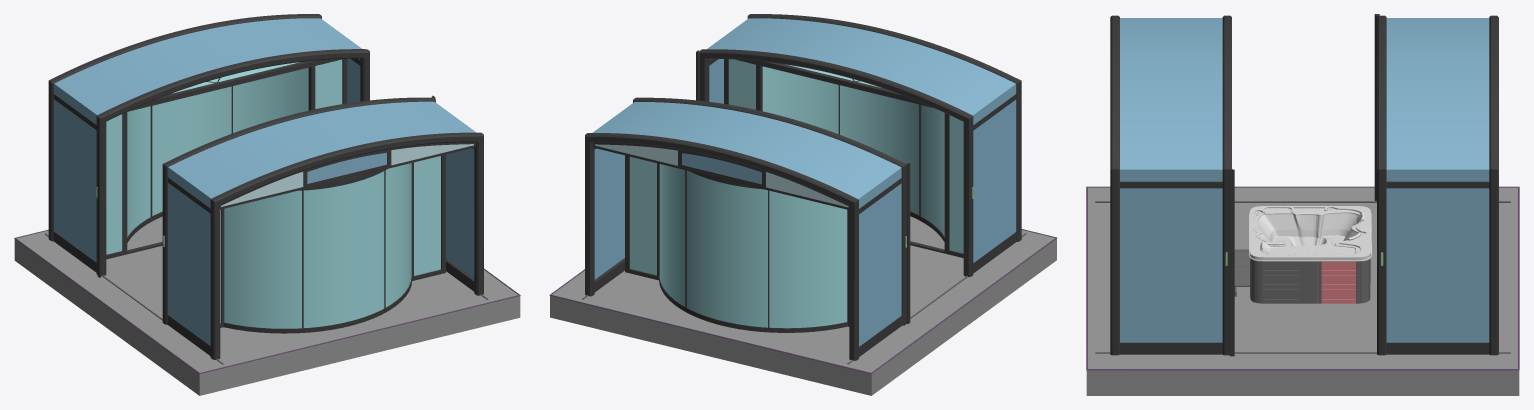
Rendered from Helios.glb.
The picture shows the model from 3 angles, left to right: view 1: azimuth 30°, elevation 25°; view 2: azimuth 150°, elevation 25°; view 3: azimuth 270°, elevation 25°; orthographic projection. The views are drawn at different scales.
Parts seen in each view (by area): view 1: Box093, Arc018, Line064, Line047, Arc015, Line066, Line048, Box082, Line049, Line065, Box077, Box076 (+18 smaller); view 2: Box093, Arc015, Line047, Line064, Arc018, Line049, Line065, Box078, Line048, Line066, Box081, Box080 (+16 smaller); view 3: Box093, Line047, Line064, sub011, Line066, Line049, Line048, sub013, Line065, Shape003, sub012, Box090 (+6 smaller).
Part boxes in pixels (x1,y1,x2,y2): Box093: (14, 216, 520, 395); Arc018: (224, 163, 411, 328); Line064: (168, 101, 476, 345); Line047: (54, 18, 361, 261); Arc015: (127, 67, 308, 236); Line066: (210, 132, 483, 359); Line048: (96, 49, 369, 276); Box082: (414, 156, 440, 275); Line049: (48, 14, 321, 241); Line065: (162, 97, 435, 324); Box077: (106, 114, 122, 254); Box076: (127, 59, 341, 111); Box093: (550, 216, 1056, 395); Arc015: (659, 164, 847, 328); Line047: (592, 102, 901, 346); Line064: (707, 18, 1016, 262); Arc018: (762, 66, 944, 235); Line049: (585, 133, 858, 360); Line065: (699, 49, 973, 276); Box078: (630, 156, 656, 275); Line048: (633, 97, 907, 325); Line066: (747, 14, 1021, 241); Box081: (949, 115, 963, 253); Box080: (735, 59, 932, 107); Box093: (1086, 187, 1519, 395); Line047: (1386, 18, 1489, 342); Line064: (1120, 18, 1222, 342); sub011: (1249, 206, 1371, 261); Line066: (1110, 15, 1119, 355); Line049: (1489, 15, 1498, 355); Line048: (1377, 15, 1386, 355); sub013: (1250, 258, 1370, 303); Line065: (1222, 15, 1231, 355); Shape003: (1086, 186, 1519, 370); sub012: (1317, 223, 1355, 303); Box090: (1119, 342, 1222, 354).
Bounding box in the file's own units: 183 × 108 × 183.
